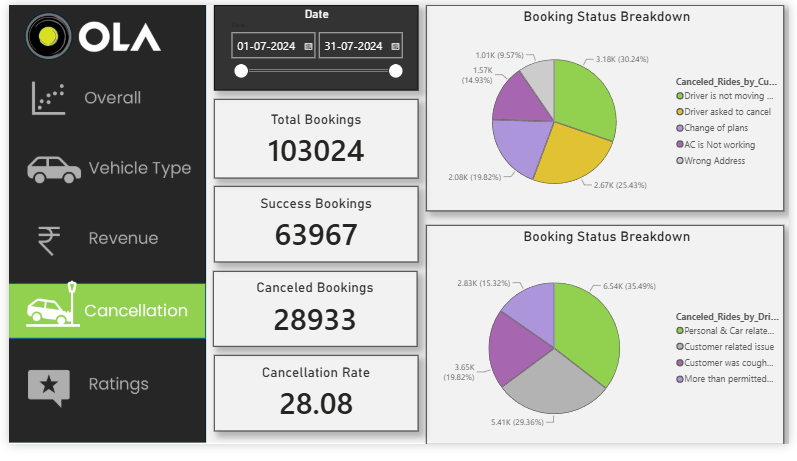

The dashboard page shown, as its layout file describes it:
{"tool":"powerbi","page":{"name":"Cancellation","canvas":[1280,720],"ordinal":3},"visuals":[{"type":"actionButton","box":[0,220.3,324,92.2],"z":0},{"type":"actionButton","box":[0,338.4,324,90.7],"z":1000},{"type":"actionButton","box":[0,573.1,324,92.2],"z":2000},{"type":"actionButton","box":[0,108,324,90.7],"z":3000},{"type":"pieChart","title":"Booking Status Breakdown","fields":{"Category":["Bookings2.Canceled_Rides_by_Customer"],"Y":["CountNonNull(Bookings2.Canceled_Rides_by_Customer)"]},"box":[683.3,0,586.7,338.3],"z":3001},{"type":"pieChart","title":"Booking Status Breakdown","fields":{"Category":["Bookings2.Canceled_Rides_by_Driver"],"Y":["CountNonNull(Bookings2.Canceled_Rides_by_Driver)"]},"box":[683.3,360,586.7,360],"z":3002},{"type":"slicer","title":"Date","fields":{"Values":["Bookings2.Date"]},"box":[336.7,0,335,140],"z":3003},{"type":"cardVisual","title":"Booking Status Breakdown","fields":{"Data":["CountNonNull(Bookings2.Booking_ID)"]},"box":[336.7,153.3,335,130],"z":3004},{"type":"cardVisual","title":"Booking Status Breakdown","fields":{"Data":["CountNonNull(Bookings2.Booking_ID)"]},"box":[336.7,296.7,335,125],"z":3005},{"type":"cardVisual","title":"Booking Status Breakdown","fields":{"Data":["CountNonNull(Bookings2.Booking_ID)"]},"box":[335,436,335,124],"z":3006},{"type":"cardVisual","title":"Booking Status Breakdown","fields":{"Data":["Bookings2.Cancellation Rate"]},"box":[336.7,573.3,335,125],"z":3007}]}

Visuals, with their boxes in screenshot pixels (x1, y1, x2, y2), scaled from the page's 1280x720 canvas onto the 797x461 screenshot:
actionButton: (left=0, top=141, right=202, bottom=200)
actionButton: (left=0, top=217, right=202, bottom=275)
actionButton: (left=0, top=367, right=202, bottom=426)
actionButton: (left=0, top=69, right=202, bottom=127)
"Booking Status Breakdown" pieChart: (left=425, top=0, right=791, bottom=217)
"Booking Status Breakdown" pieChart: (left=425, top=230, right=791, bottom=460)
"Date" slicer: (left=210, top=0, right=418, bottom=90)
"Booking Status Breakdown" cardVisual: (left=210, top=98, right=418, bottom=181)
"Booking Status Breakdown" cardVisual: (left=210, top=190, right=418, bottom=270)
"Booking Status Breakdown" cardVisual: (left=209, top=279, right=417, bottom=359)
"Booking Status Breakdown" cardVisual: (left=210, top=367, right=418, bottom=447)
